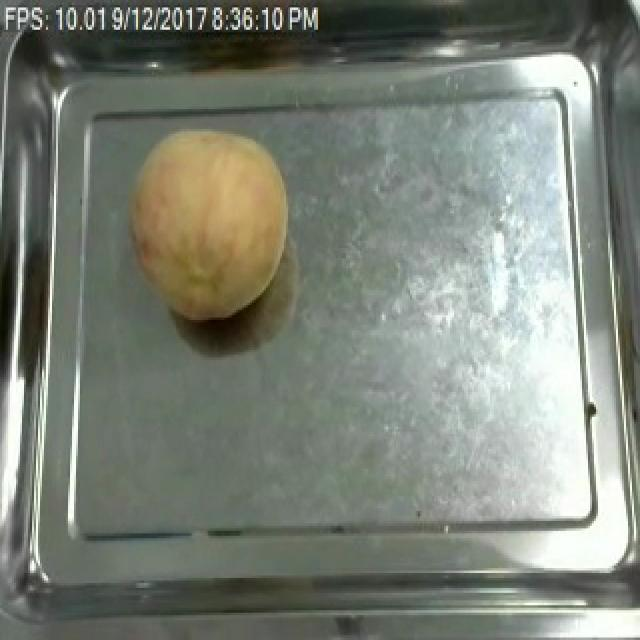Fruit: (120, 114, 298, 330)
